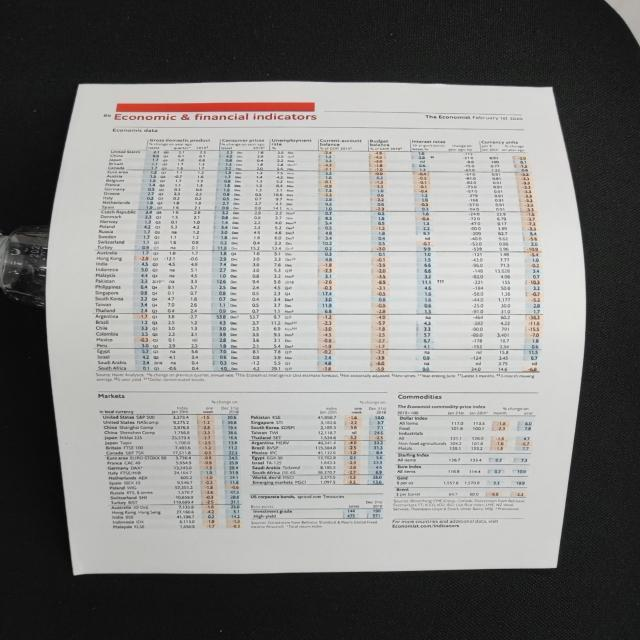document: (46, 82, 585, 574)
